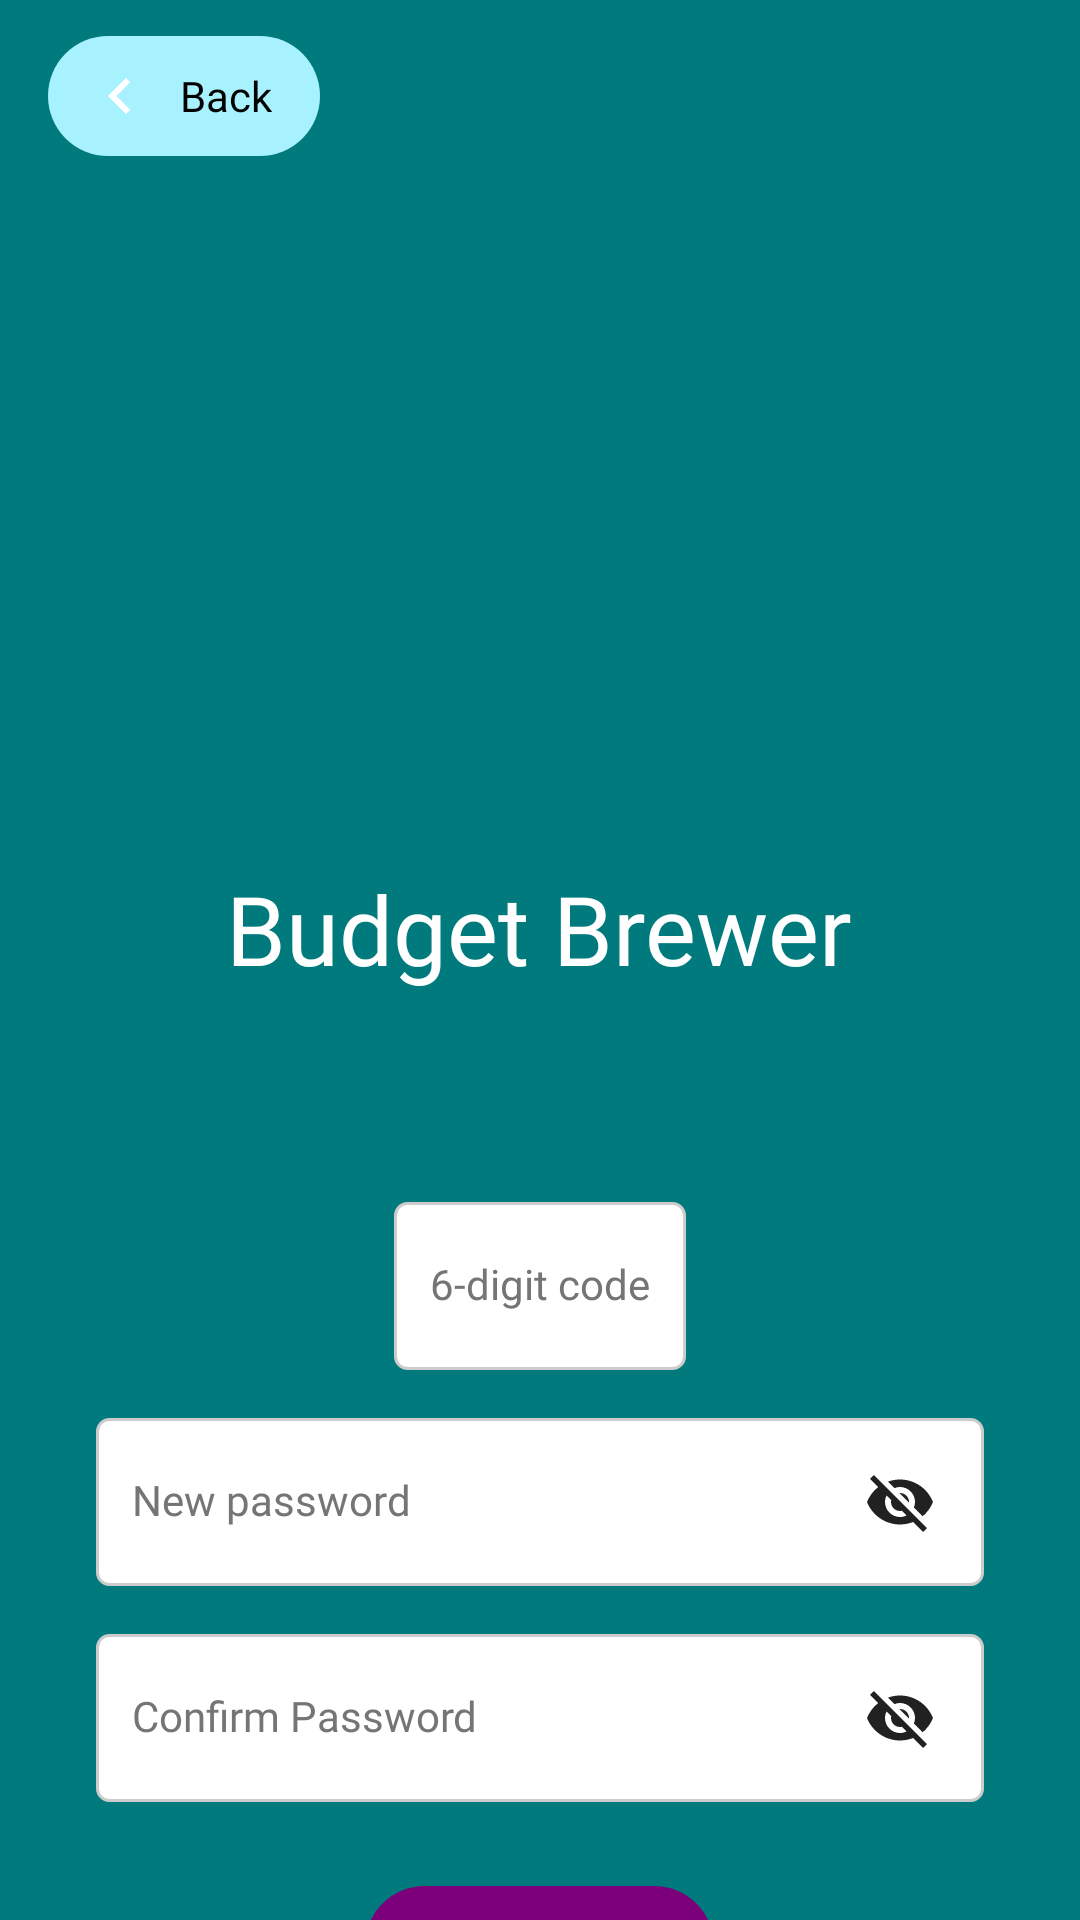

Icon bounding boxes for this 1080px×1920px phone screenshot, format (x1, y1, x2, y2):
Toggle password visibility: (867, 1475, 933, 1532), (867, 1691, 933, 1748)
